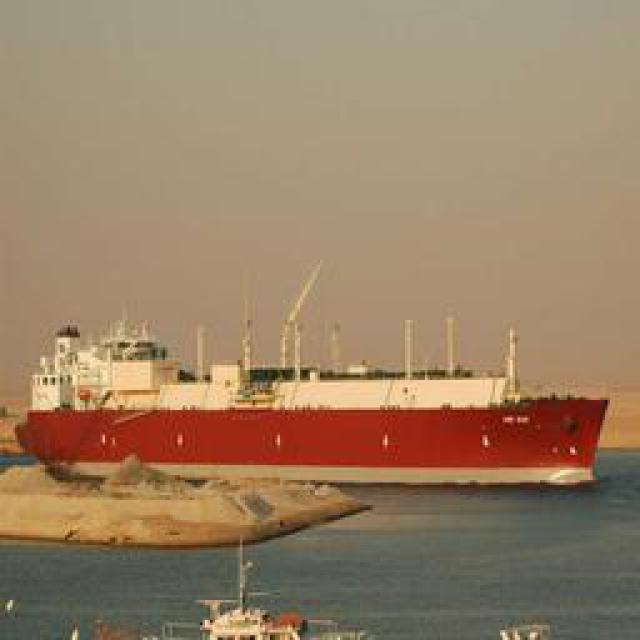Ship: (16, 309, 611, 494)
